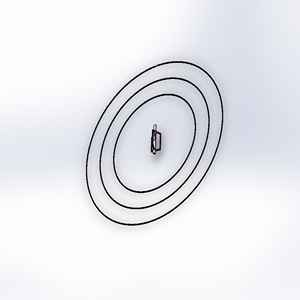circle: (77, 55, 229, 232)
submarine: (138, 120, 173, 161)
